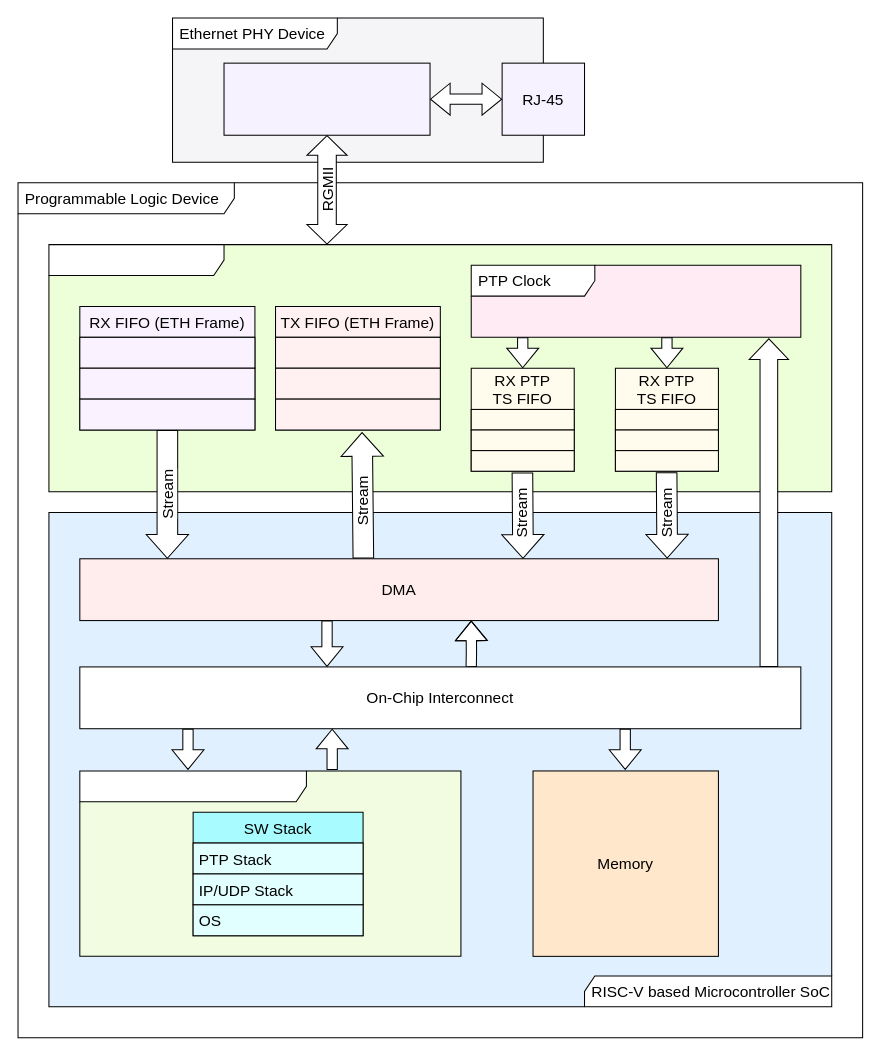
This 881x1056 diagram has some shape labels left out. The shapes that lost their labels are listed below. From the top down, each one's box as (x1, y1, x2, y2) in pixels, then its label:
(223, 62, 430, 135): Gigabit Ethernet PHY
(48, 244, 832, 492): Gigabit Ethernet MAC
(79, 770, 461, 956): RISC-V Core
